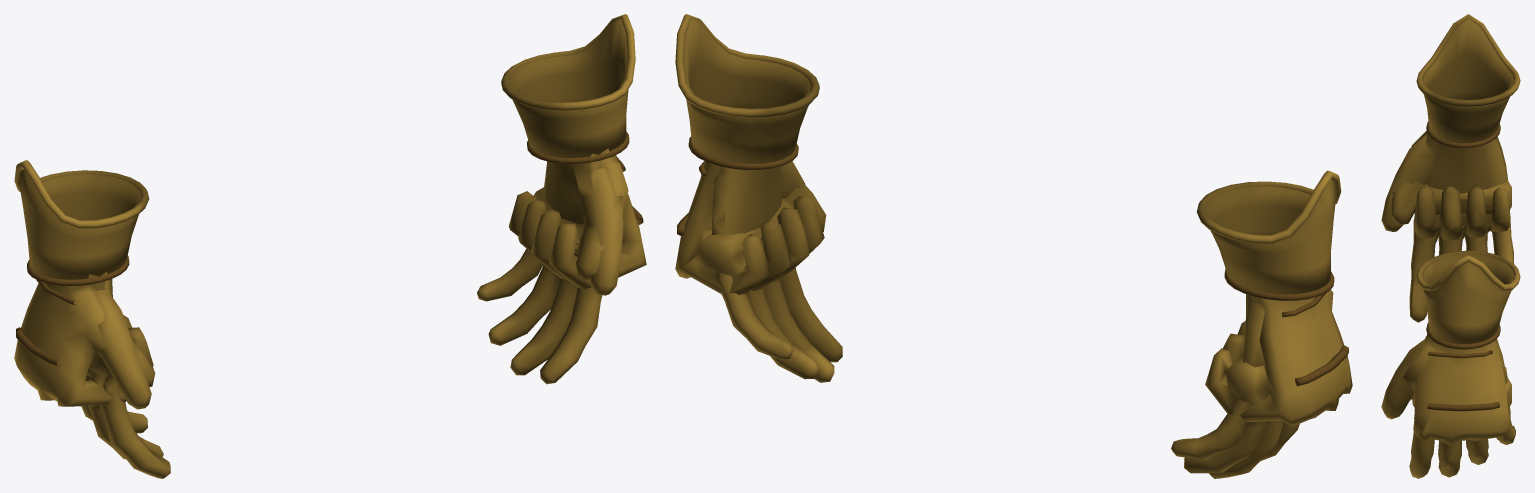
File: g_celestial.glb
3 views of the same model, side by side, from view 1: azimuth 30°, elevation 25°; view 2: azimuth 150°, elevation 25°; view 3: azimuth 270°, elevation 25° (orthographic). The views are drawn at different scales.
Parts seen in each view (by area): view 1: ArmL_HandOpen, ArmL_Gauntlet, ArmR_Gauntlet, ArmR_Hand, ArmL_Hand, ArmR_HandOpen; view 2: ArmL_Gauntlet, ArmR_Gauntlet, ArmR_Hand, ArmL_HandOpen, ArmL_Hand, ArmR_HandOpen; view 3: ArmR_Gauntlet, ArmL_Hand, ArmR_HandOpen, ArmL_Gauntlet, ArmR_Hand, ArmL_HandOpen.
Boxes of the visible parts, box(x1,y1,x2,y2) form: ArmL_HandOpen: box(477, 149, 623, 384); ArmL_Gauntlet: box(501, 14, 635, 164); ArmR_Gauntlet: box(14, 160, 149, 286); ArmR_Hand: box(14, 272, 155, 406); ArmL_Hand: box(508, 148, 646, 289); ArmR_HandOpen: box(81, 272, 170, 478); ArmL_Gauntlet: box(675, 14, 819, 170); ArmR_Gauntlet: box(1197, 170, 1341, 300); ArmR_Hand: box(1205, 289, 1352, 426); ArmL_HandOpen: box(712, 161, 842, 382); ArmL_Hand: box(675, 161, 826, 294); ArmR_HandOpen: box(1171, 294, 1299, 478); ArmR_Gauntlet: box(1416, 14, 1520, 148); ArmL_Hand: box(1403, 327, 1511, 445); ArmR_HandOpen: box(1381, 127, 1514, 322); ArmL_Gauntlet: box(1416, 250, 1520, 349); ArmR_Hand: box(1390, 126, 1511, 240); ArmL_HandOpen: box(1381, 327, 1515, 478).
Bounding box in the file's own units: 0.5765 × 0.2948 × 0.1391.
